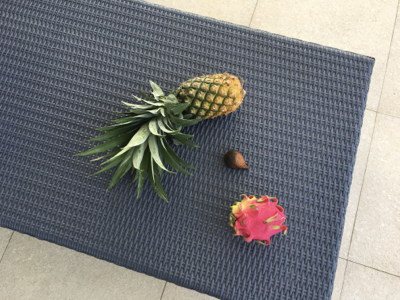dragon fruit: (229, 196, 289, 246)
pineapple: (76, 73, 246, 200)
snake fruit: (223, 150, 250, 172)
